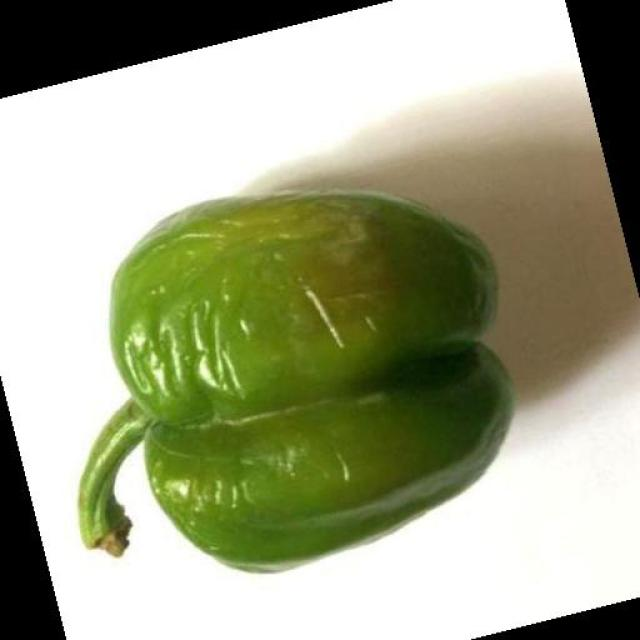Stale_Capsicum: (79, 235, 524, 560)
